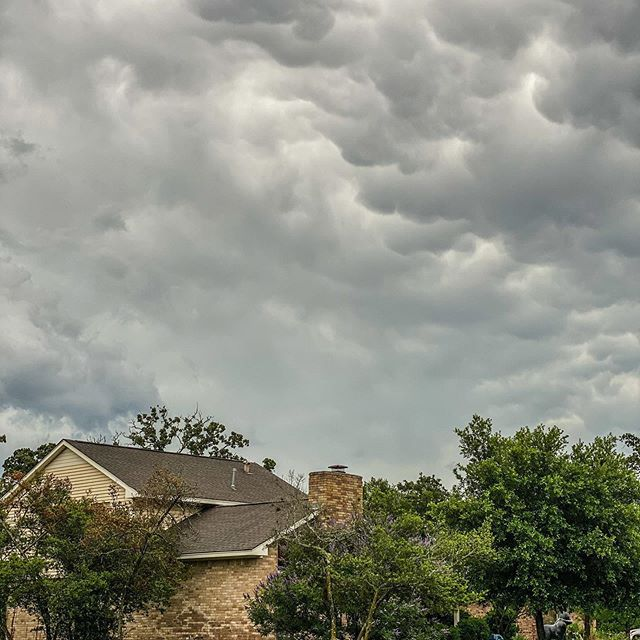building: (14, 435, 370, 640)
sky: (1, 1, 629, 422)
tree: (466, 421, 640, 640), (1, 475, 196, 640), (291, 465, 474, 640)
